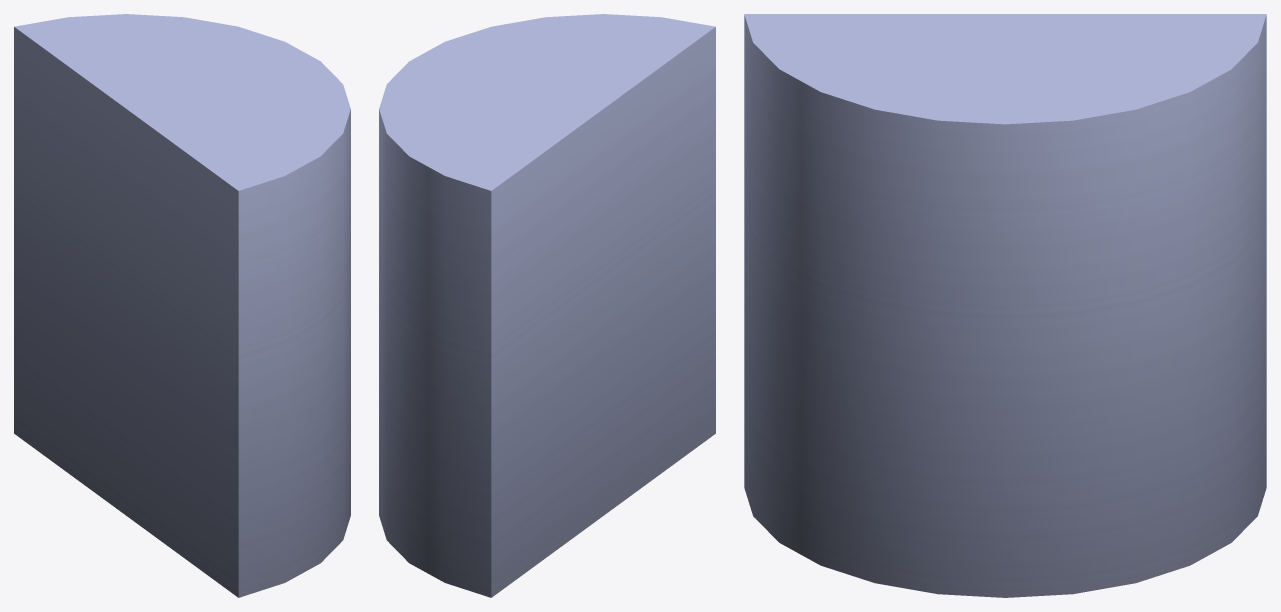
File: shape-cylinder-half-detailed.fbx
3 views of the same model, side by side, from view 1: azimuth 30°, elevation 25°; view 2: azimuth 150°, elevation 25°; view 3: azimuth 270°, elevation 25° (orthographic). The views are drawn at different scales.
Visible parts, largest first — view 1: shape-cylinder-half-detailed; view 2: shape-cylinder-half-detailed; view 3: shape-cylinder-half-detailed.
Boxes of the visible parts, x1=… form: shape-cylinder-half-detailed: x1=14, y1=14, x2=350, y2=597; shape-cylinder-half-detailed: x1=379, y1=14, x2=715, y2=597; shape-cylinder-half-detailed: x1=744, y1=14, x2=1266, y2=597.
Bounding box in the file's own units: 50 × 100 × 100.
